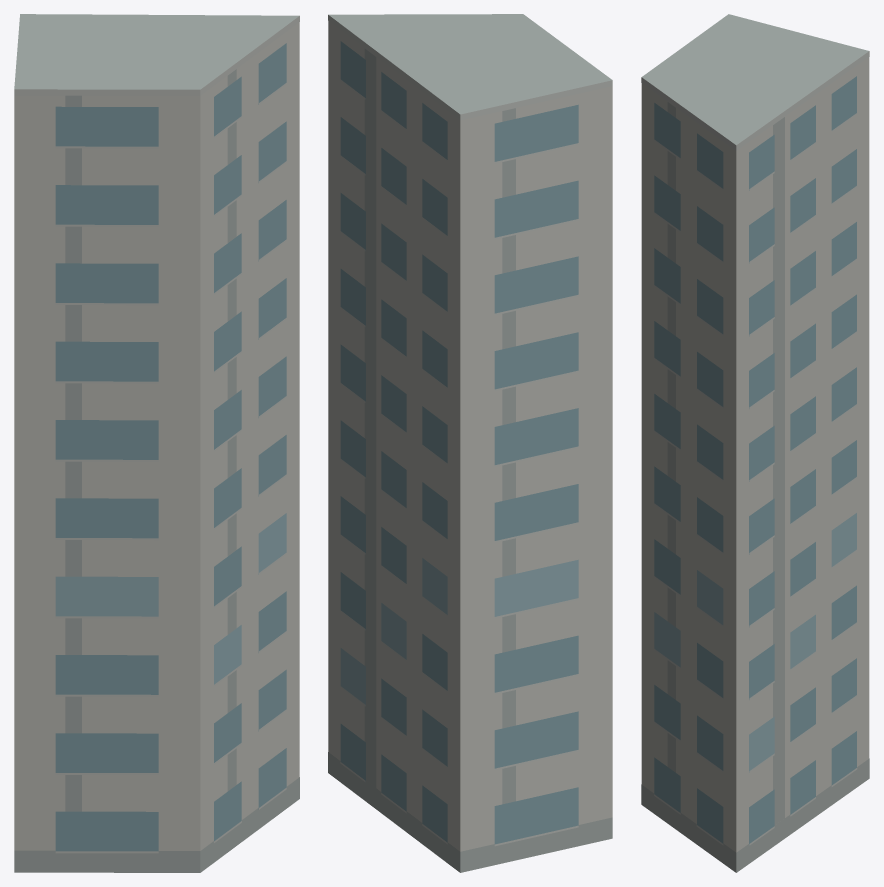
Rendered from survey-upis-32832911.glb.
3 views of the same model, side by side, from view 1: azimuth 30°, elevation 25°; view 2: azimuth 150°, elevation 25°; view 3: azimuth 270°, elevation 25° (orthographic). The views are drawn at different scales.
Parts seen in each view (by area): view 1: survey-upis-32832911.tmp; view 2: survey-upis-32832911.tmp; view 3: survey-upis-32832911.tmp.
Boxes of the visible parts, x1,y1,x2,y2 form: survey-upis-32832911.tmp: [14, 14, 299, 872]; survey-upis-32832911.tmp: [328, 14, 612, 872]; survey-upis-32832911.tmp: [641, 14, 869, 872].
Bounding box in the file's own units: 11.81 × 30.5 × 8.67.
